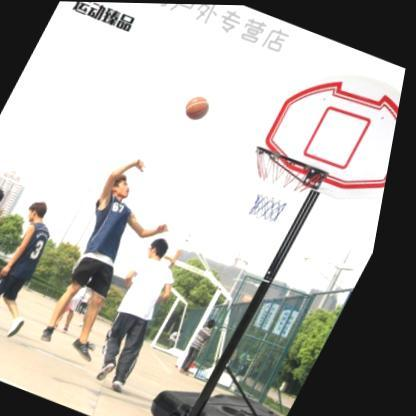basketball: (184, 92, 219, 123)
rim: (229, 142, 338, 232)
